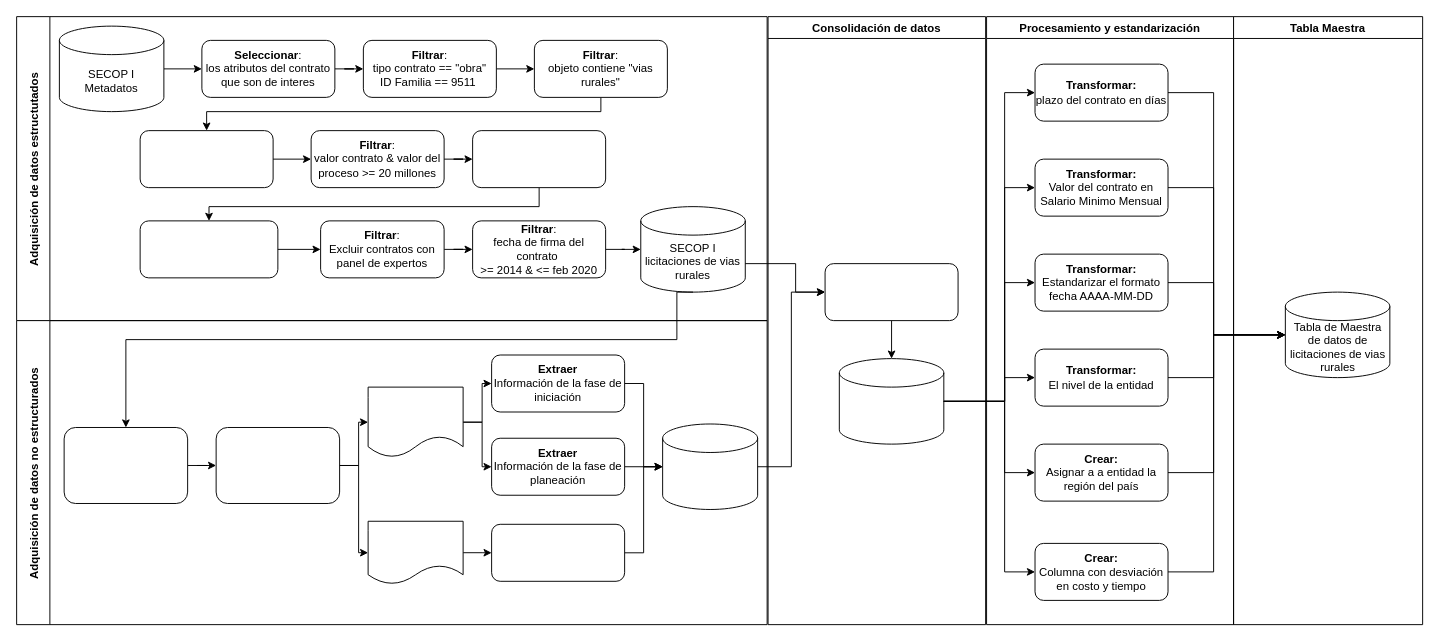
The diagram is 1439 pixels wide and 641 high, and some of its shapes have lost their labels. Here are the shapes that lost their labels. From the top down, the centre of each, then its label:
point (206, 159): Filtrar : excluir contratos cuyo objeto no corresponde a construcción de vías
point (539, 159): Filtrar : regimen != "Regimen Especial"
point (208, 249): Filtrar : tipo proceso == "Licitaciones"
point (891, 292): Juntar (Join): Con el ID del contrato
point (415, 421): Pliegos
point (891, 401): SECOP I datos estructurados y no estructurados
point (125, 465): Seleccionar : ID y URL de contratos de vias rurales
point (277, 465): Extraer : Pliegos del proceso y documento de ejecución
point (710, 466): SECOP I Consolidado de datos no estructurados
point (415, 552): Documentos de ejecución
point (558, 552): Extraer Información de la fase de ejecución y cierre
